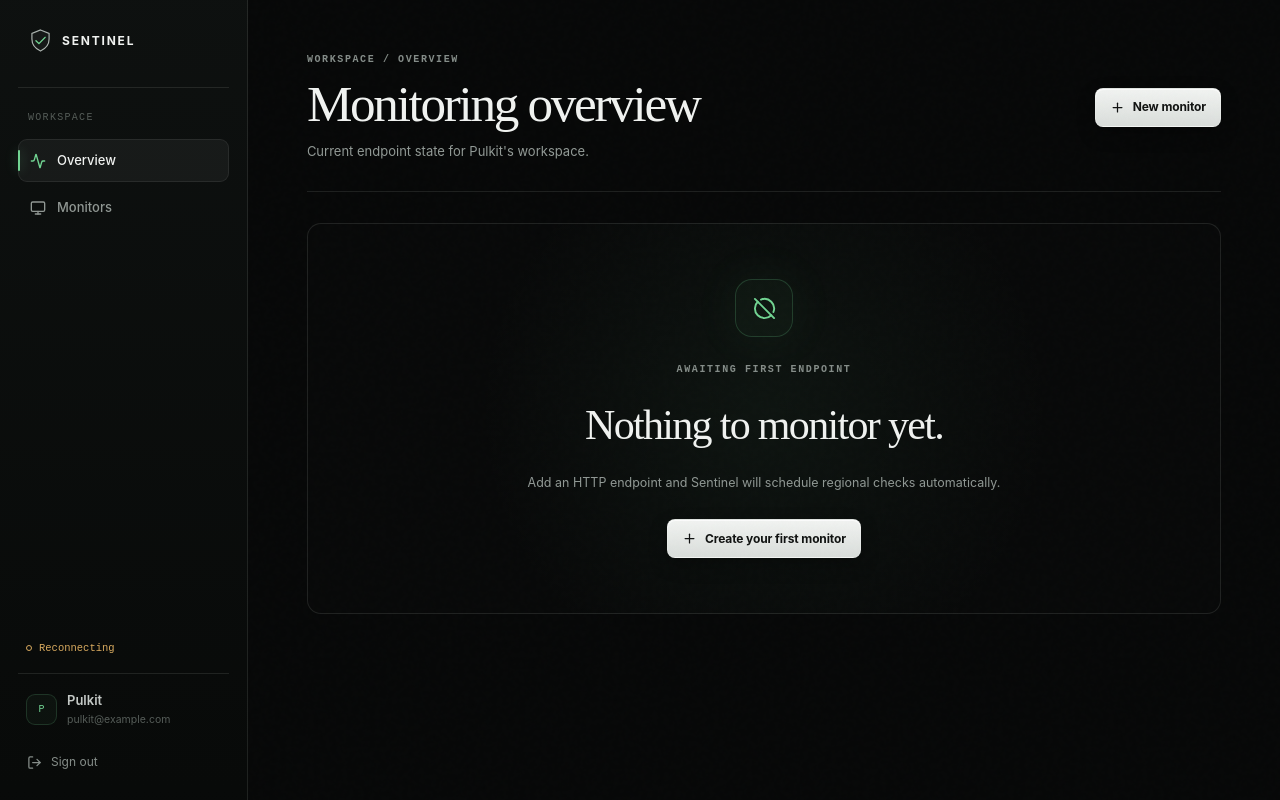
Sentinel monitor workspace › renders the authenticated shell and navigates between Overview and Monitors
The width and height of the screenshot is (1280, 800).
Expected: the heading "Monitoring overview" is shown, left=307, top=78, right=700, bottom=130
Expected: the text "Pulkit" is shown, left=67, top=692, right=102, bottom=708
Click the link "Monitors" at x=71, y=207, box left=30, top=199, right=112, bottom=216
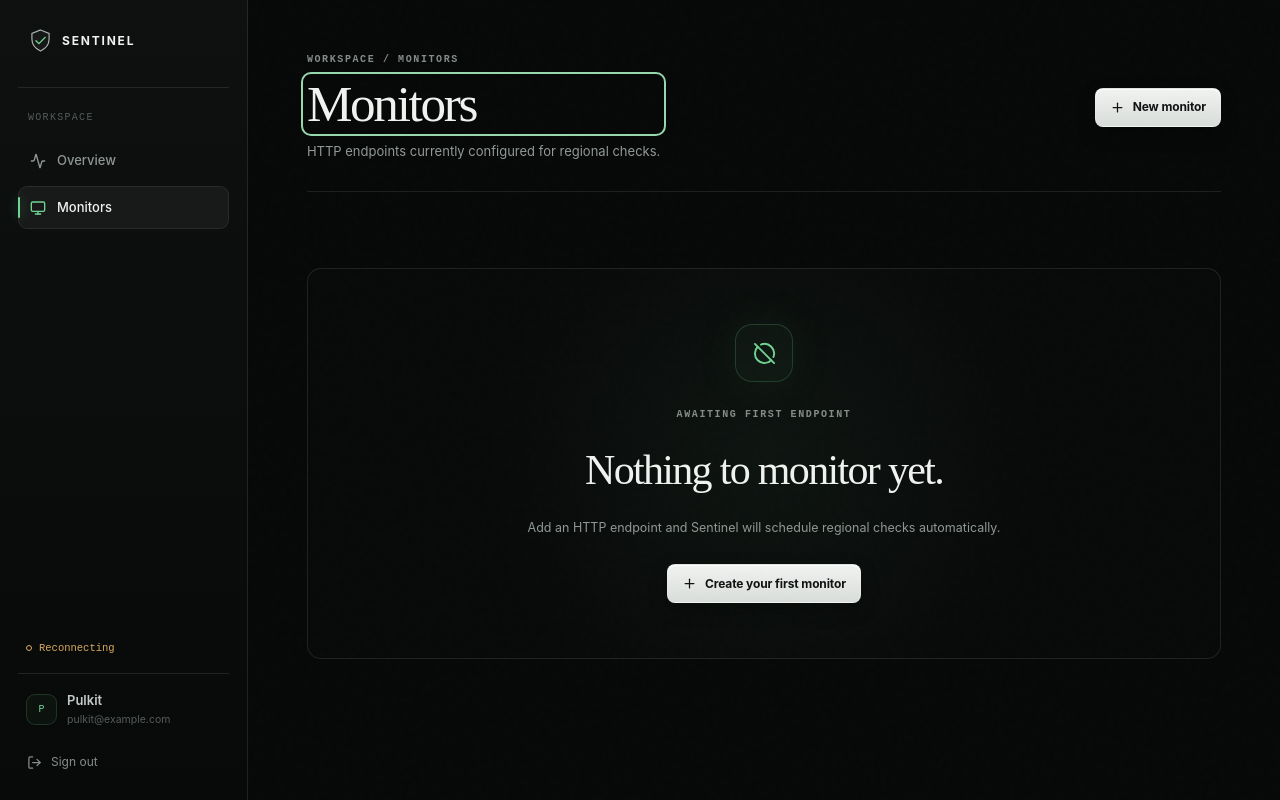
Expected: the heading "Monitors" is shown, left=307, top=75, right=476, bottom=132
